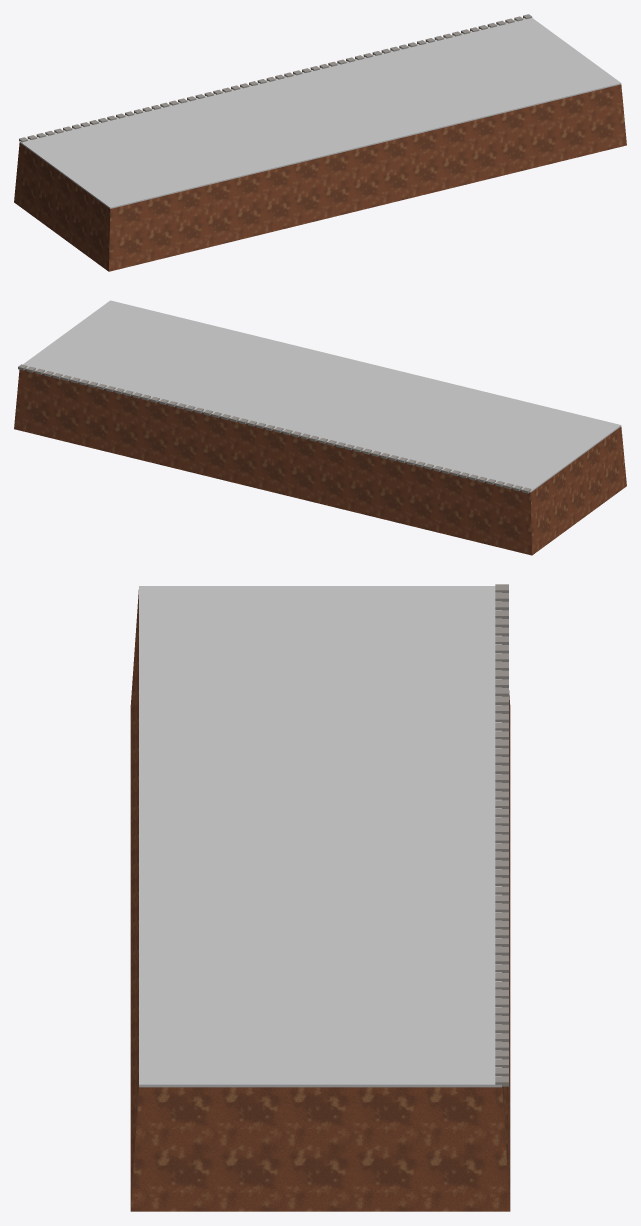
File: SM_Art_Authored_KnowledgeRouteRidge_5200x1600x600_1_11.gltf
The picture shows the model from 3 angles, top to bottom: view 1: azimuth 30°, elevation 25°; view 2: azimuth 150°, elevation 25°; view 3: azimuth 270°, elevation 25°; orthographic projection. The views are drawn at different scales.
Visible parts, largest first — view 1: SM_Art_Authored_KnowledgeRouteRidge_5200x1600x600_1_11; view 2: SM_Art_Authored_KnowledgeRouteRidge_5200x1600x600_1_11; view 3: SM_Art_Authored_KnowledgeRouteRidge_5200x1600x600_1_11.
Part boxes in pixels (left/top/right/bottom): SM_Art_Authored_KnowledgeRouteRidge_5200x1600x600_1_11: left=14, top=14, right=626, bottom=271; SM_Art_Authored_KnowledgeRouteRidge_5200x1600x600_1_11: left=14, top=300, right=626, bottom=555; SM_Art_Authored_KnowledgeRouteRidge_5200x1600x600_1_11: left=130, top=584, right=510, bottom=1211.
Size of the model in its own units: 52.72 by 6.12 by 16.72.
